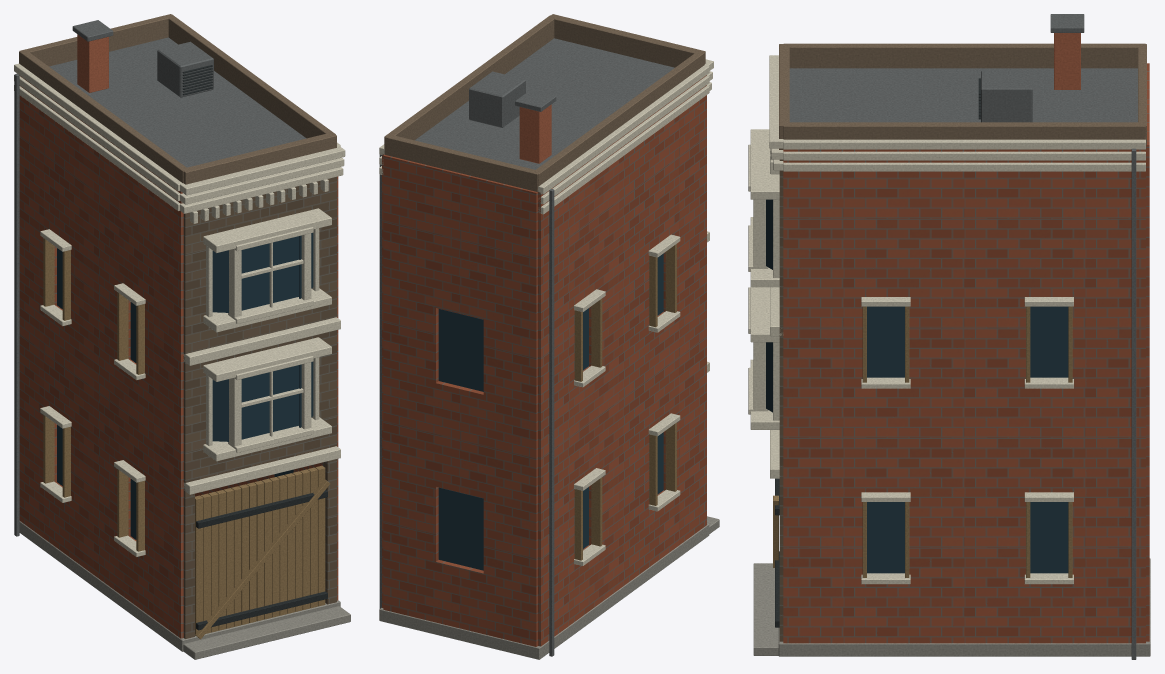
Rendered from VICT21_lod1.glb.
The picture shows the model from 3 angles, left to right: view 1: azimuth 30°, elevation 25°; view 2: azimuth 150°, elevation 25°; view 3: azimuth 270°, elevation 25°; orthographic projection. The views are drawn at different scales.
Visible parts, largest first — view 1: VICT21_LOD1; view 2: VICT21_LOD1; view 3: VICT21_LOD1.
Boxes of the visible parts, bbox=[...] form: VICT21_LOD1: bbox=[14, 14, 350, 659]; VICT21_LOD1: bbox=[379, 14, 719, 659]; VICT21_LOD1: bbox=[748, 14, 1150, 659].
Size of the model in its own units: 3.71 by 10.45 by 6.65.
11 materials, 9 textured.
